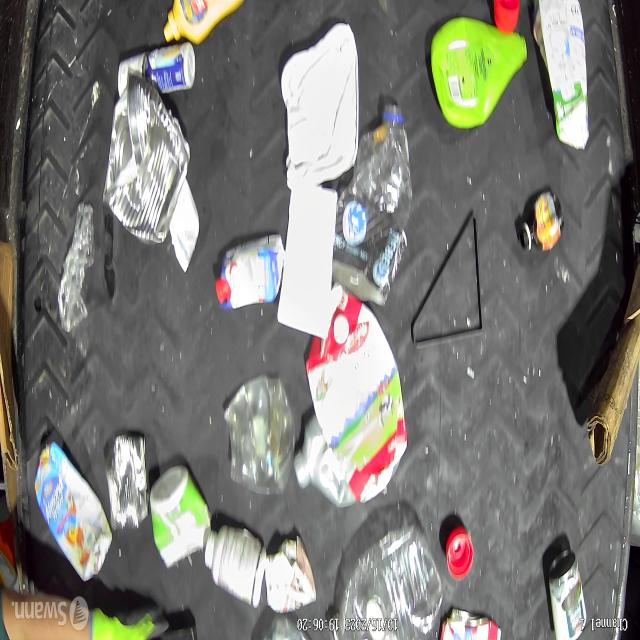can: (105, 78, 191, 248), (108, 429, 148, 535), (546, 548, 587, 640), (439, 610, 504, 640)
non_white_jug: (304, 295, 408, 499), (32, 441, 112, 582), (429, 20, 528, 133), (531, 0, 589, 151), (215, 228, 284, 311), (163, 0, 243, 46)
plastic_bottle: (331, 101, 412, 302), (330, 523, 443, 640)
